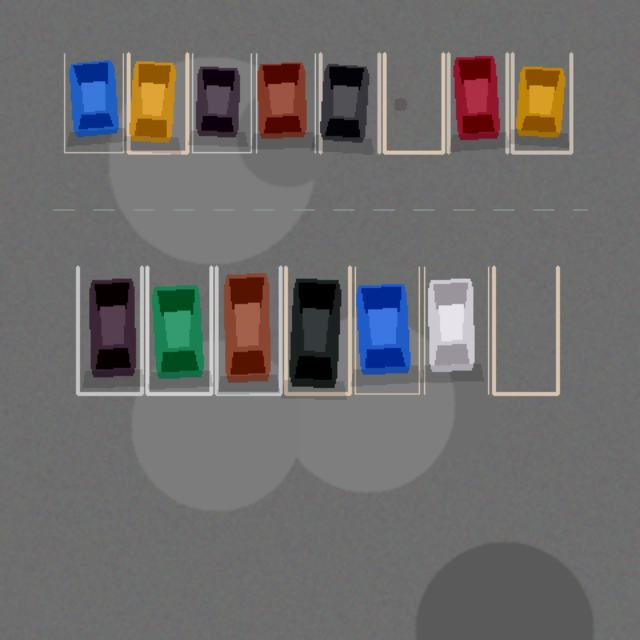space-empty: (493, 267, 557, 393), (384, 53, 443, 152)
space-occupied: (77, 267, 141, 393), (147, 267, 211, 393), (216, 267, 280, 393), (285, 267, 349, 393), (355, 267, 419, 393), (424, 267, 488, 393), (64, 53, 123, 152), (128, 53, 187, 152), (192, 53, 251, 152), (256, 53, 315, 152), (320, 53, 379, 152), (448, 53, 507, 152), (512, 53, 571, 152)
